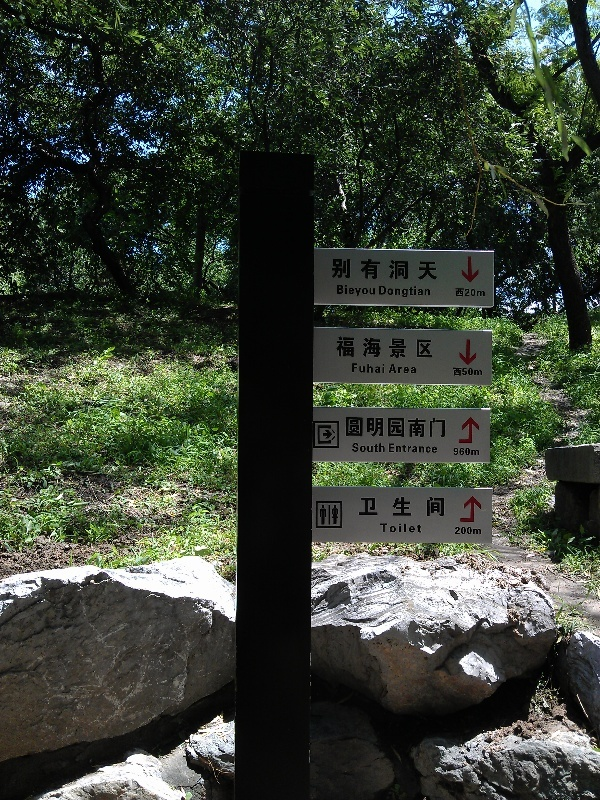text: (417, 337, 433, 359), (353, 416, 368, 439), (369, 416, 384, 439), (385, 416, 400, 439), (401, 416, 416, 439), (417, 416, 432, 439), (337, 258, 352, 280), (353, 258, 368, 280), (369, 258, 384, 280), (385, 258, 400, 280), (401, 258, 416, 280), (417, 258, 432, 280), (337, 337, 352, 359), (353, 337, 368, 359), (369, 337, 384, 359), (385, 337, 400, 359), (401, 337, 416, 359), (369, 496, 384, 518), (385, 496, 400, 518), (401, 496, 416, 518), (417, 496, 432, 518), (433, 416, 447, 439), (433, 496, 445, 518), (337, 284, 352, 298), (353, 284, 368, 298), (385, 285, 400, 299), (401, 285, 416, 299), (359, 496, 368, 518), (417, 285, 431, 299), (401, 363, 416, 376), (353, 363, 368, 375), (369, 363, 384, 375), (353, 442, 368, 454), (369, 442, 384, 454), (401, 443, 416, 455), (417, 443, 432, 455), (385, 523, 400, 534), (401, 523, 416, 534), (465, 447, 481, 457), (465, 288, 480, 298), (465, 367, 480, 377), (388, 443, 400, 455), (389, 363, 400, 376), (346, 416, 352, 439), (465, 527, 480, 536), (369, 284, 377, 298), (433, 258, 438, 280), (453, 367, 464, 377), (453, 447, 464, 457), (455, 288, 464, 298), (454, 527, 464, 536), (332, 258, 336, 280), (433, 443, 440, 455), (379, 285, 384, 299), (417, 523, 423, 534), (481, 288, 486, 298), (380, 523, 384, 534), (385, 442, 387, 454), (481, 367, 483, 377), (417, 363, 418, 376), (385, 363, 386, 375), (351, 442, 352, 454), (481, 527, 482, 536)
